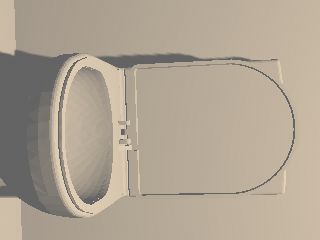lid_1: (126, 60, 298, 197)
